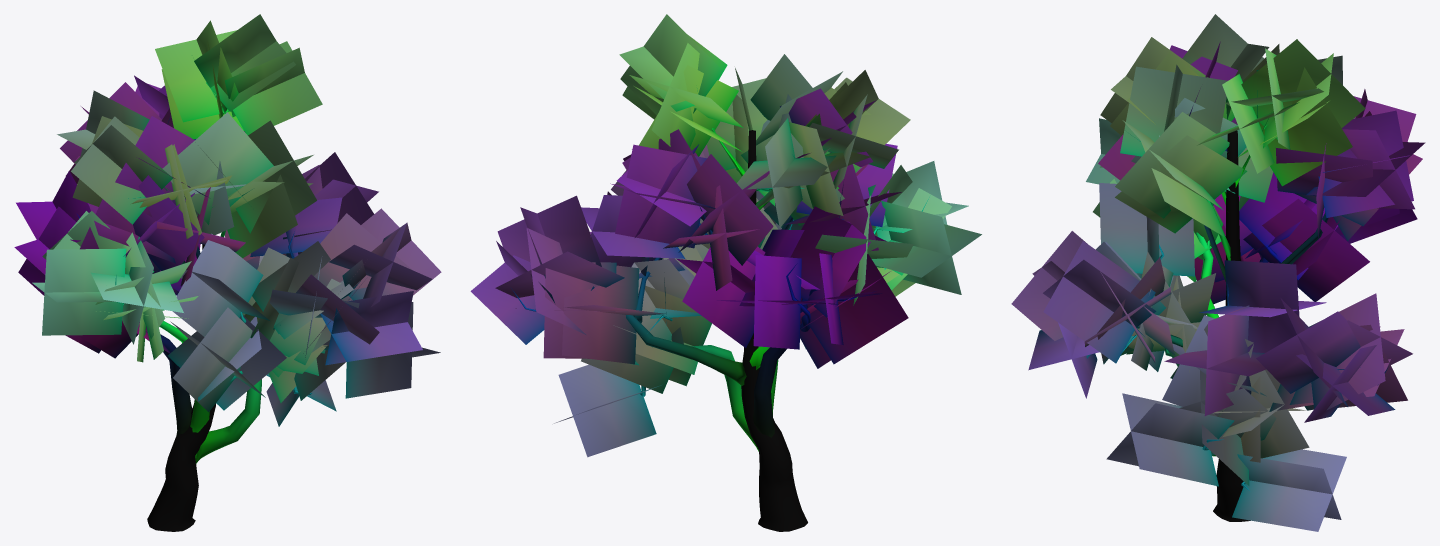
The model's file is URP_P5_Tree_14_LOD_1.fbx.
3 views of the same model, side by side, from view 1: azimuth 30°, elevation 25°; view 2: azimuth 150°, elevation 25°; view 3: azimuth 270°, elevation 25° (orthographic). The views are drawn at different scales.
Parts seen in each view (by area): view 1: Tree_14_LOD_1; view 2: Tree_14_LOD_1; view 3: Tree_14_LOD_1.
Boxes of the visible parts, bbox=[...] form: Tree_14_LOD_1: bbox=[14, 14, 441, 531]; Tree_14_LOD_1: bbox=[470, 14, 981, 531]; Tree_14_LOD_1: bbox=[1011, 14, 1425, 531].
Bounding box in the file's own units: 429 × 490 × 356.
